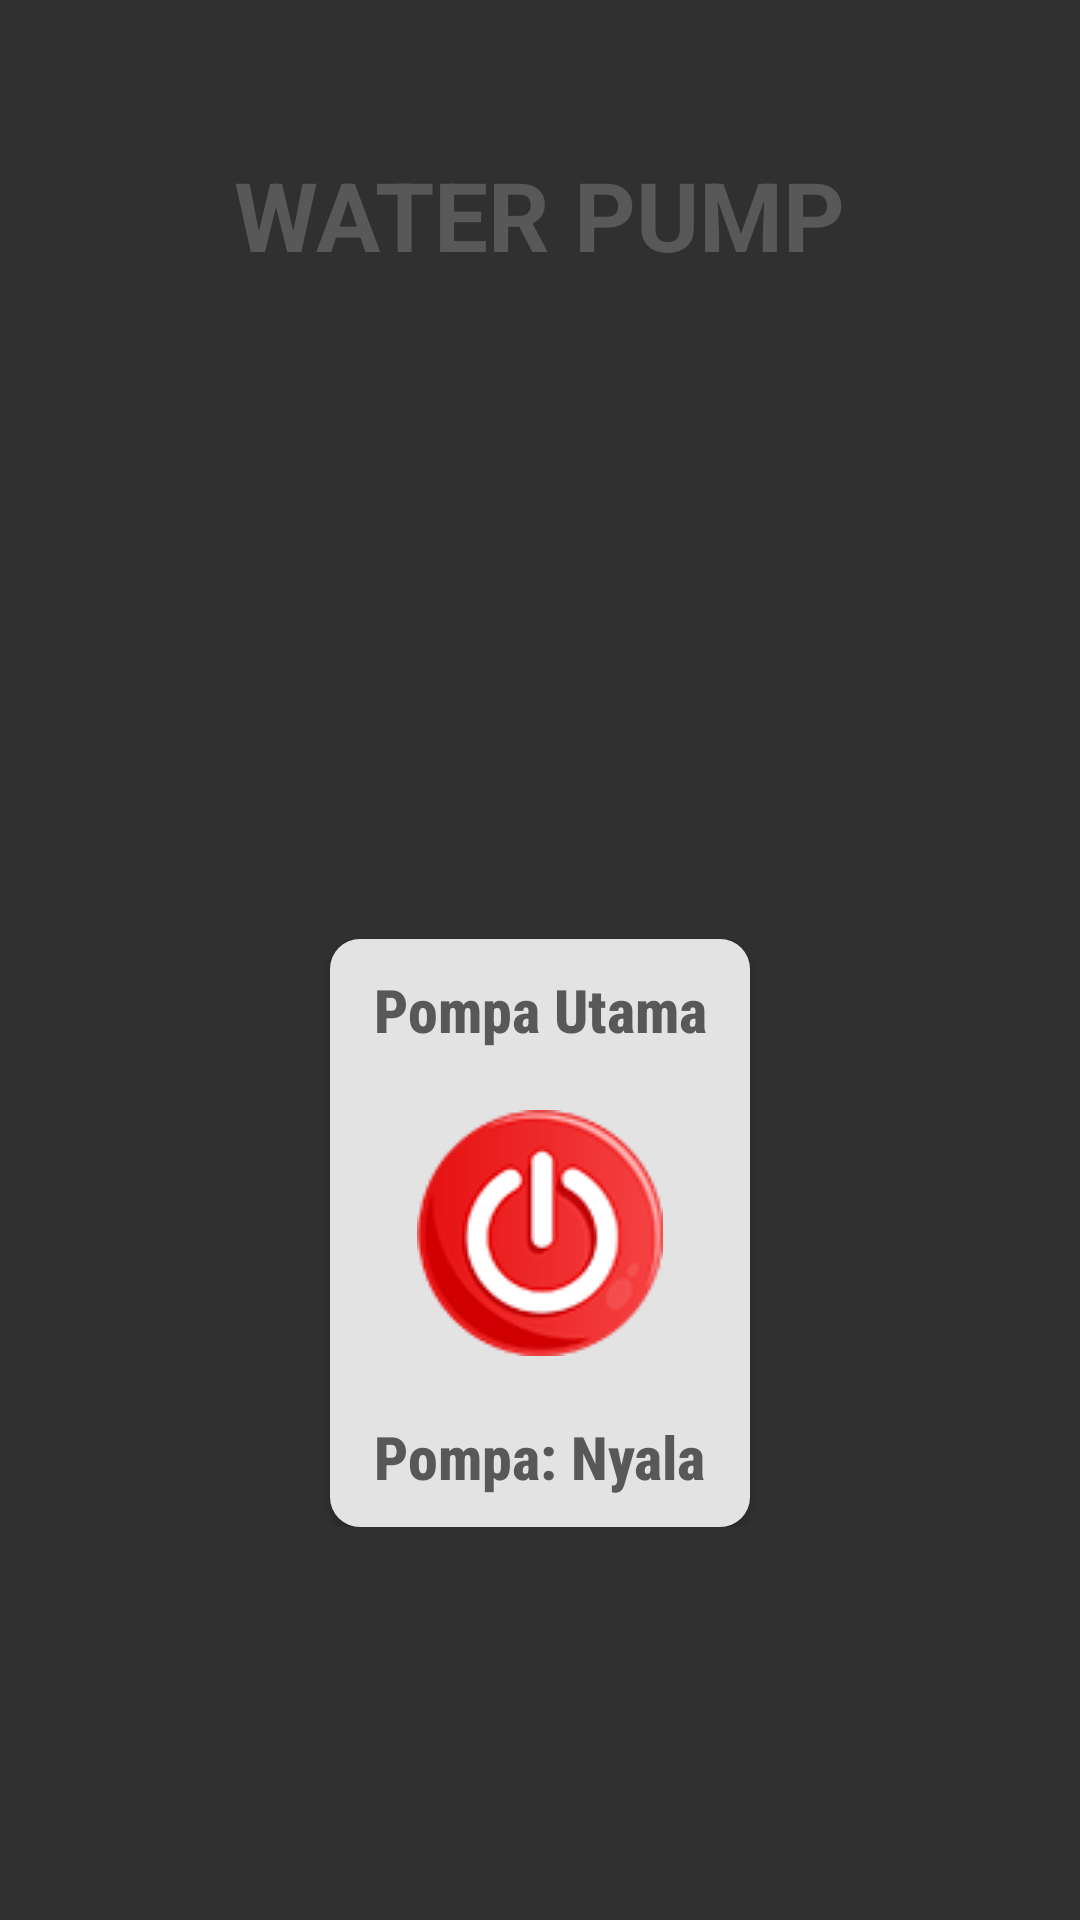

Named icons in this screenshot (1080*1920) and their bounding boxes, (x1, y1, x2, y2):
off xs: (417, 1110, 663, 1356)
